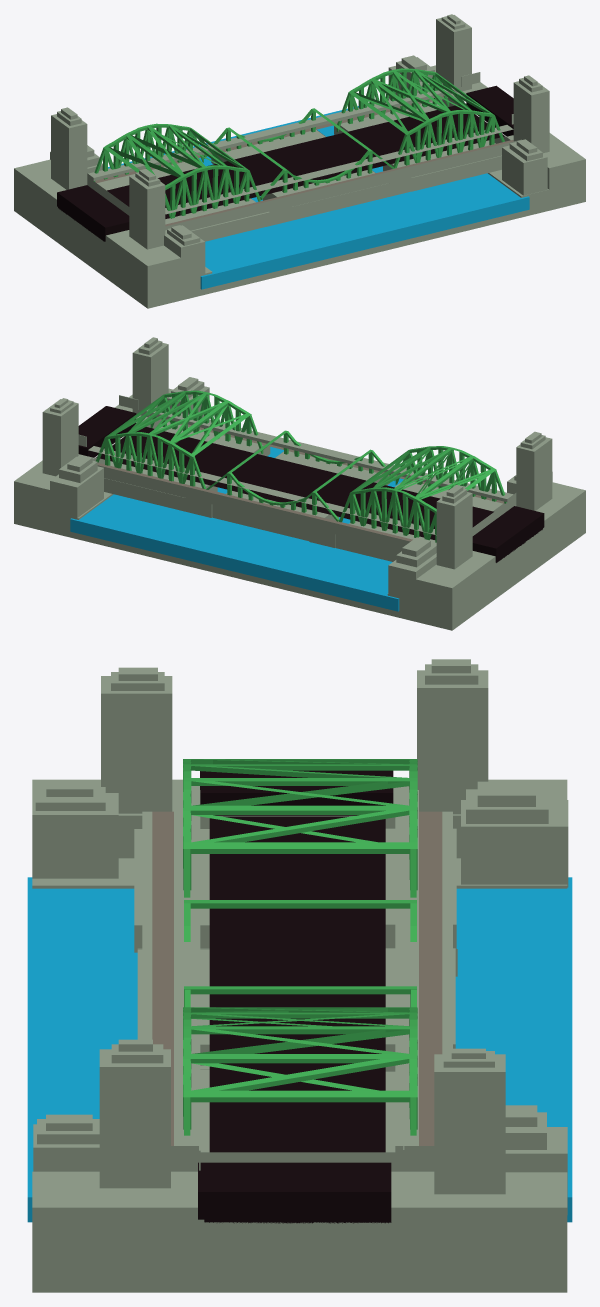
The model's file is Sapanputhh (2).glb.
3 renders of one model, top to bottom at view 1: azimuth 30°, elevation 25°; view 2: azimuth 150°, elevation 25°; view 3: azimuth 270°, elevation 25°, orthographic. The views are drawn at different scales.
Visible parts, largest first — view 1: Cube.018, ลูกบาศก์.032, Cube, Cube.001, Cube.007, ลูกบาศก์, ลูกบาศก์.003, ลูกบาศก์.030, ลูกบาศก์.006, ลูกบาศก์.007, ลูกบาศก์.024, ลูกบาศก์.025 (+8 smaller); view 2: Cube.018, ลูกบาศก์.032, Cube, Cube.001, Cube.007, ลูกบาศก์, ลูกบาศก์.003, ลูกบาศก์.030, ลูกบาศก์.007, ลูกบาศก์.006, ลูกบาศก์.012, ลูกบาศก์.027 (+11 smaller); view 3: Cube, ลูกบาศก์.032, Cube.007, Cube.018, Cube.001, Cube.010, ลูกบาศก์.031, ลูกบาศก์.007, ลูกบาศก์.006, ลูกบาศก์, ลูกบาศก์.003, ลูกบาศก์.013 (+19 smaller).
Part boxes in pixels (x1,y1,x2,y2): Cube.018: (94, 68, 504, 218); ลูกบาศก์.032: (108, 106, 529, 289); Cube: (14, 65, 585, 308); Cube.001: (87, 72, 521, 230); Cube.007: (107, 105, 504, 218); ลูกบาศก์: (51, 114, 87, 189); ลูกบาศก์.003: (129, 175, 165, 249); ลูกบาศก์.030: (57, 185, 129, 241); ลูกบาศก์.006: (513, 81, 549, 153); ลูกบาศก์.007: (436, 15, 471, 92); ลูกบาศก์.024: (262, 170, 389, 220); ลูกบาศก์.025: (383, 140, 501, 191); Cube.018: (96, 390, 506, 542); ลูกบาศก์.032: (70, 447, 403, 611); Cube: (14, 388, 585, 630); Cube.001: (78, 395, 516, 550); Cube.007: (96, 427, 493, 539); ลูกบาศก์: (436, 492, 472, 569); ลูกบาศก์.003: (516, 437, 552, 510); ลูกบาศก์.030: (472, 506, 544, 562); ลูกบาศก์.007: (42, 399, 78, 476); ลูกบาศก์.006: (132, 342, 168, 420); ลูกบาศก์.012: (50, 466, 103, 517); ลูกบาศก์.027: (212, 491, 339, 540); Cube: (32, 779, 567, 1292); ลูกบาศก์.032: (27, 877, 572, 1222); Cube.007: (209, 816, 385, 1152); Cube.018: (183, 759, 417, 1135); Cube.001: (138, 790, 457, 1171); Cube.010: (152, 811, 442, 1145); ลูกบาศก์.031: (198, 1162, 391, 1219); ลูกบาศก์.007: (434, 1054, 505, 1194); ลูกบาศก์.006: (99, 1049, 170, 1188); ลูกบาศก์: (417, 670, 488, 814); ลูกบาศก์.003: (101, 676, 172, 813); ลูกบาศก์.013: (461, 800, 568, 887).
Size of the model in its own units: 2002 by 497 by 1076.
